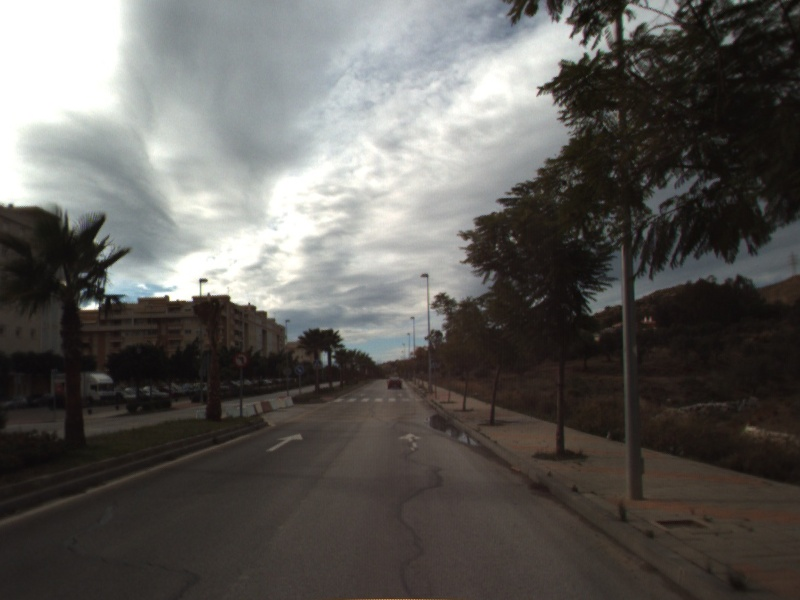STRAIGHT: (264, 431, 306, 454), (396, 430, 425, 453)
